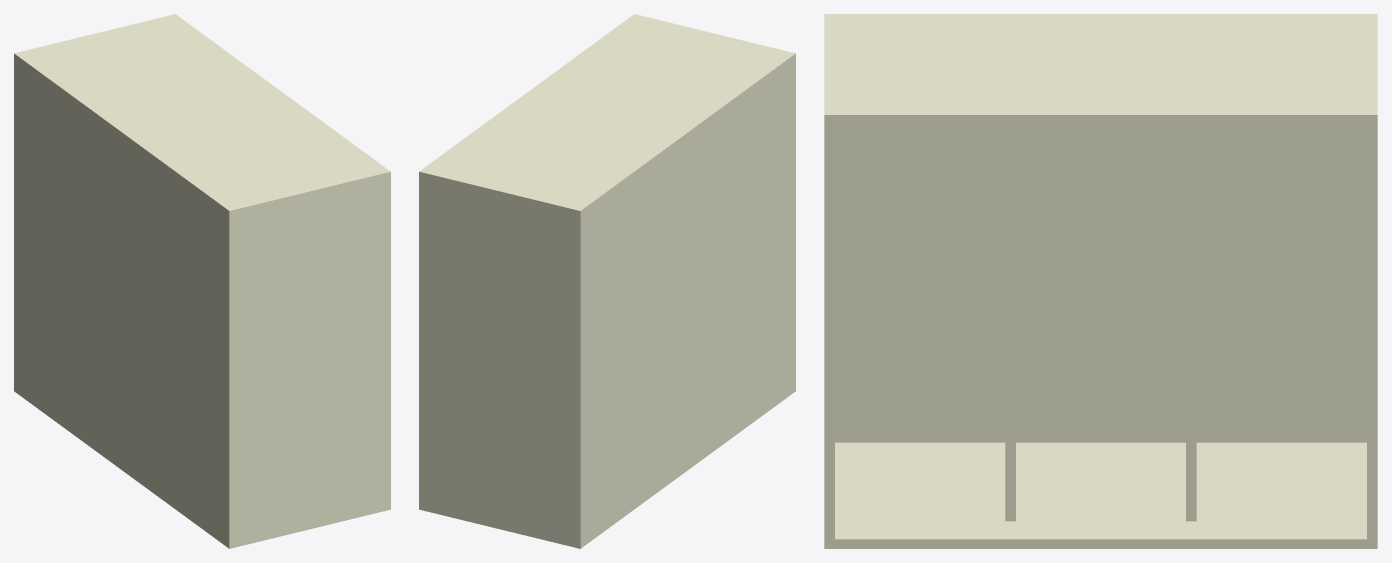
3 views of the same model, side by side, from view 1: azimuth 30°, elevation 25°; view 2: azimuth 150°, elevation 25°; view 3: azimuth 270°, elevation 25° (orthographic). The views are drawn at different scales.
Parts seen in each view (by area): view 1: ROOT_link (×5); view 2: ROOT_link (×5); view 3: ROOT_link (×7).
Boxes of the visible parts, <box> form: ROOT_link (×5): <box>14,14,390,548</box>; ROOT_link (×5): <box>419,14,795,548</box>; ROOT_link (×7): <box>824,14,1377,548</box>.
Bounding box in the file's own units: 0.45 × 0.9 × 1.04.
